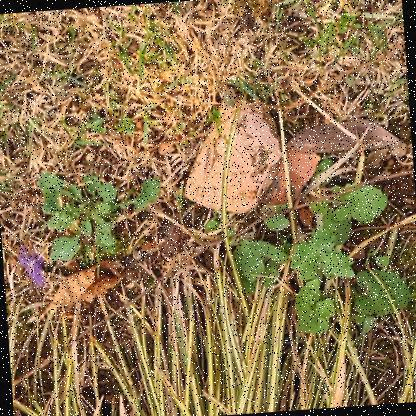Weeds: (225, 153, 412, 341), (36, 171, 165, 265)
